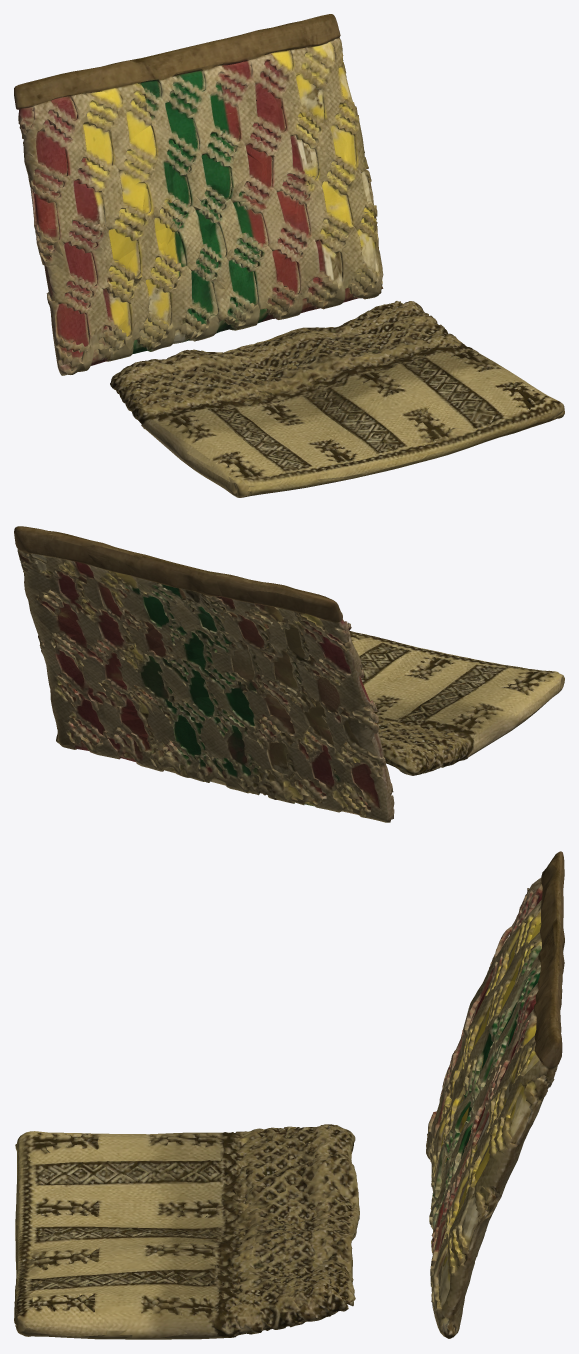
Rendered from kampil.glb.
The picture shows the model from 3 angles, top to bottom: view 1: azimuth 30°, elevation 25°; view 2: azimuth 150°, elevation 25°; view 3: azimuth 270°, elevation 25°; orthographic projection. The views are drawn at different scales.
Bounding box in the file's own units: 1.61 × 1.19 × 1.9.
Materials: 1 (1 with a texture image).
